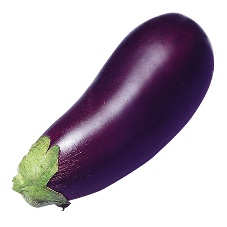eggplant: (24, 11, 215, 212)
